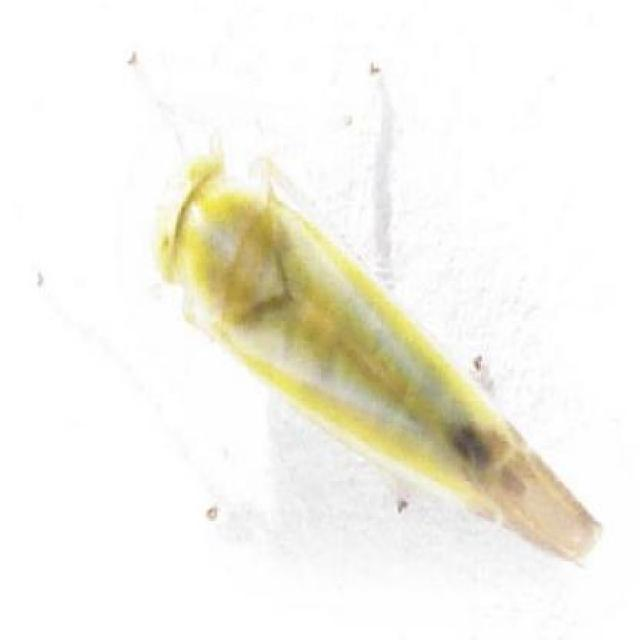green-leafhopper: (151, 145, 614, 578)
